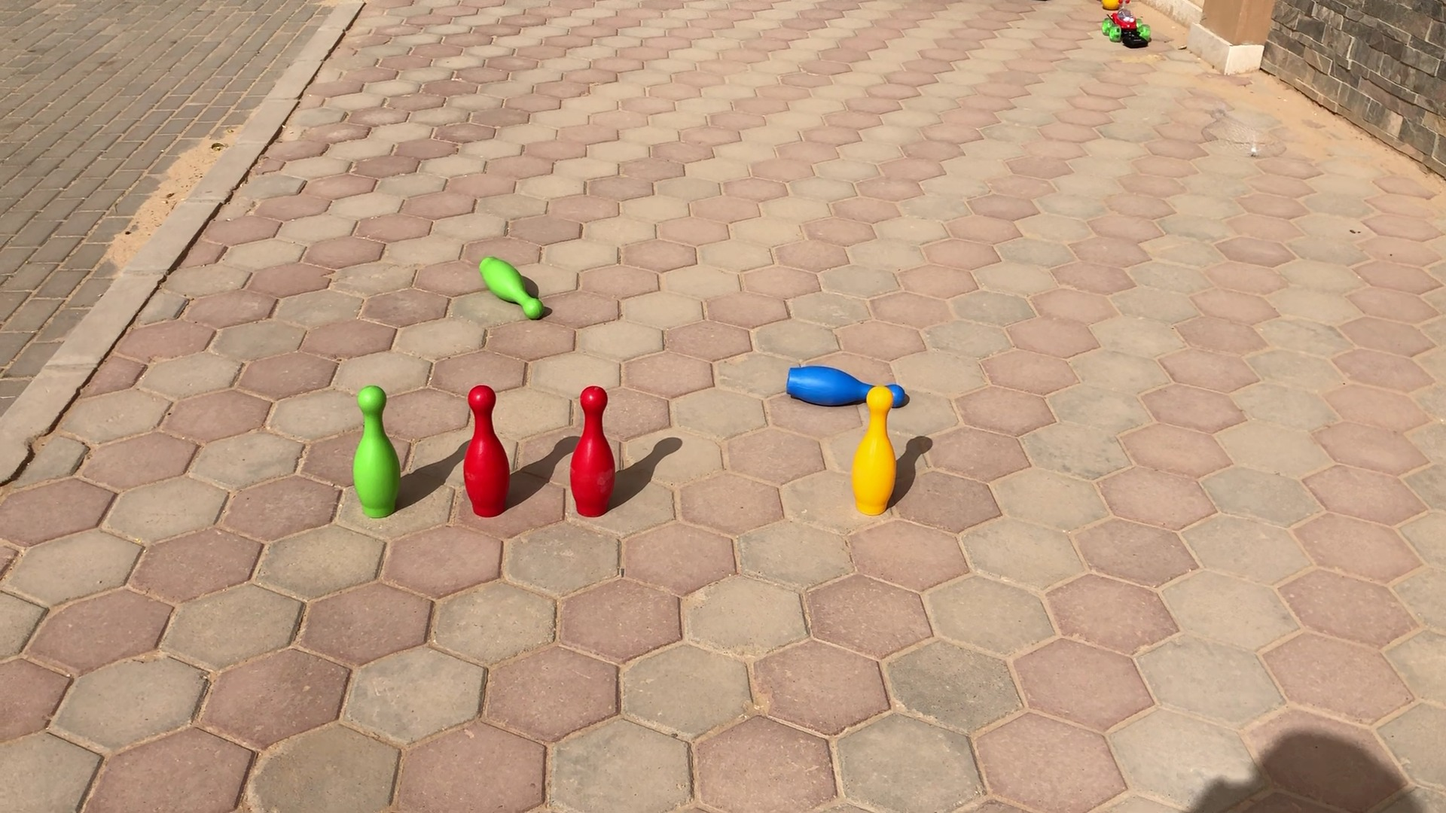bowling-pin: (779, 360, 913, 416), (350, 386, 400, 518), (462, 383, 511, 516), (572, 385, 616, 516), (853, 390, 898, 513), (482, 258, 546, 318)
